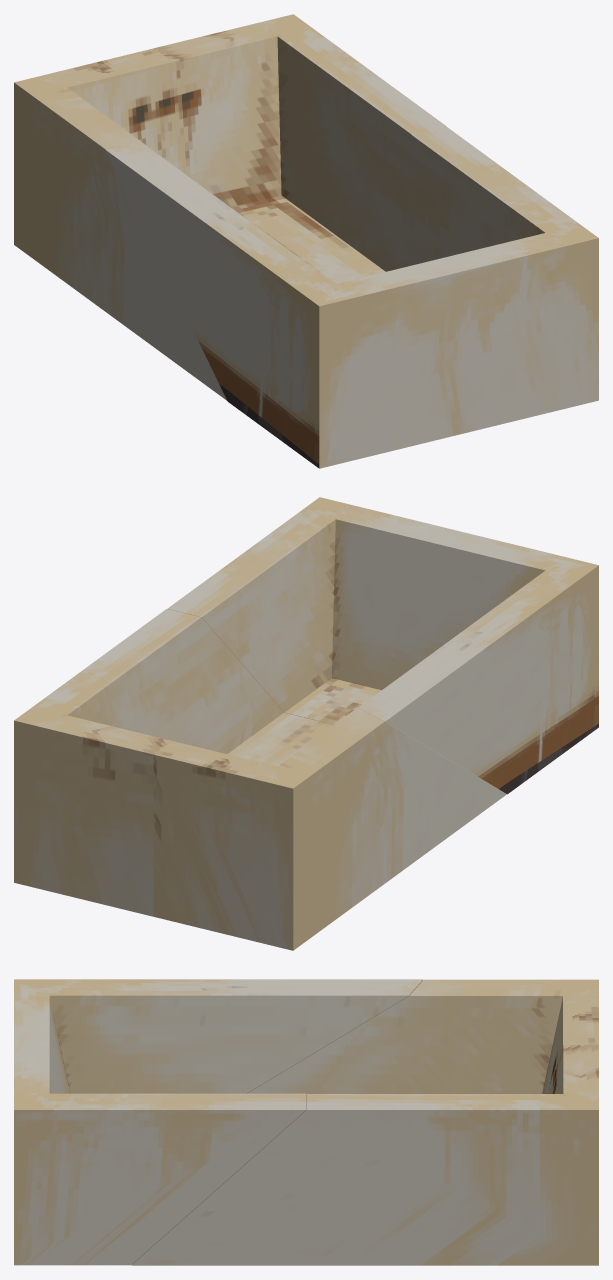
The model's file is broken_bathtub.fbx.
The picture shows the model from 3 angles, top to bottom: view 1: azimuth 30°, elevation 25°; view 2: azimuth 150°, elevation 25°; view 3: azimuth 270°, elevation 25°; orthographic projection. The views are drawn at different scales.
Parts seen in each view (by area): view 1: bathtub_p3, bathtub_p1, bathtub_p2; view 2: bathtub_p3, bathtub_p2, bathtub_p1; view 3: bathtub_p3, bathtub_p1, bathtub_p2.
Boxes of the visible parts, <box> form: bathtub_p3: <box>106,126,598,468</box>; bathtub_p1: <box>154,14,447,283</box>; bathtub_p2: <box>14,48,226,400</box>; bathtub_p3: <box>167,497,598,794</box>; bathtub_p2: <box>153,708,506,950</box>; bathtub_p1: <box>14,609,333,916</box>; bathtub_p3: <box>14,979,422,1265</box>; bathtub_p1: <box>131,1045,598,1265</box>; bathtub_p2: <box>247,979,598,1093</box>.
Bounding box in the file's own units: 1.67 × 0.9274 × 3.16.
